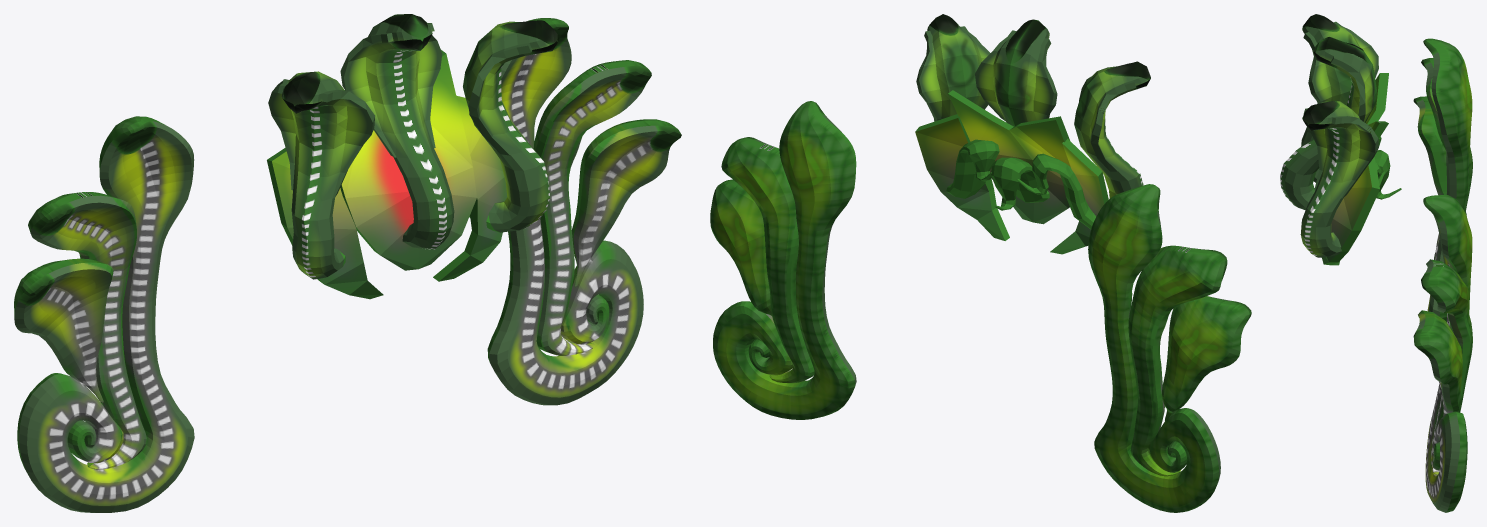
The model's file is naagahead.fbx.
3 renders of one model, left to right at view 1: azimuth 30°, elevation 25°; view 2: azimuth 150°, elevation 25°; view 3: azimuth 270°, elevation 25°, orthographic. The views are drawn at different scales.
Parts seen in each view (by area): view 1: Plane.002; view 2: Plane.002; view 3: Plane.002.
Part boxes in pixels (box(x1,y1,x2,y2)): Plane.002: box(14, 14, 681, 512); Plane.002: box(710, 14, 1251, 512); Plane.002: box(1280, 14, 1472, 512).
Size of the model in its own units: 50.42 by 36.46 by 16.66.
